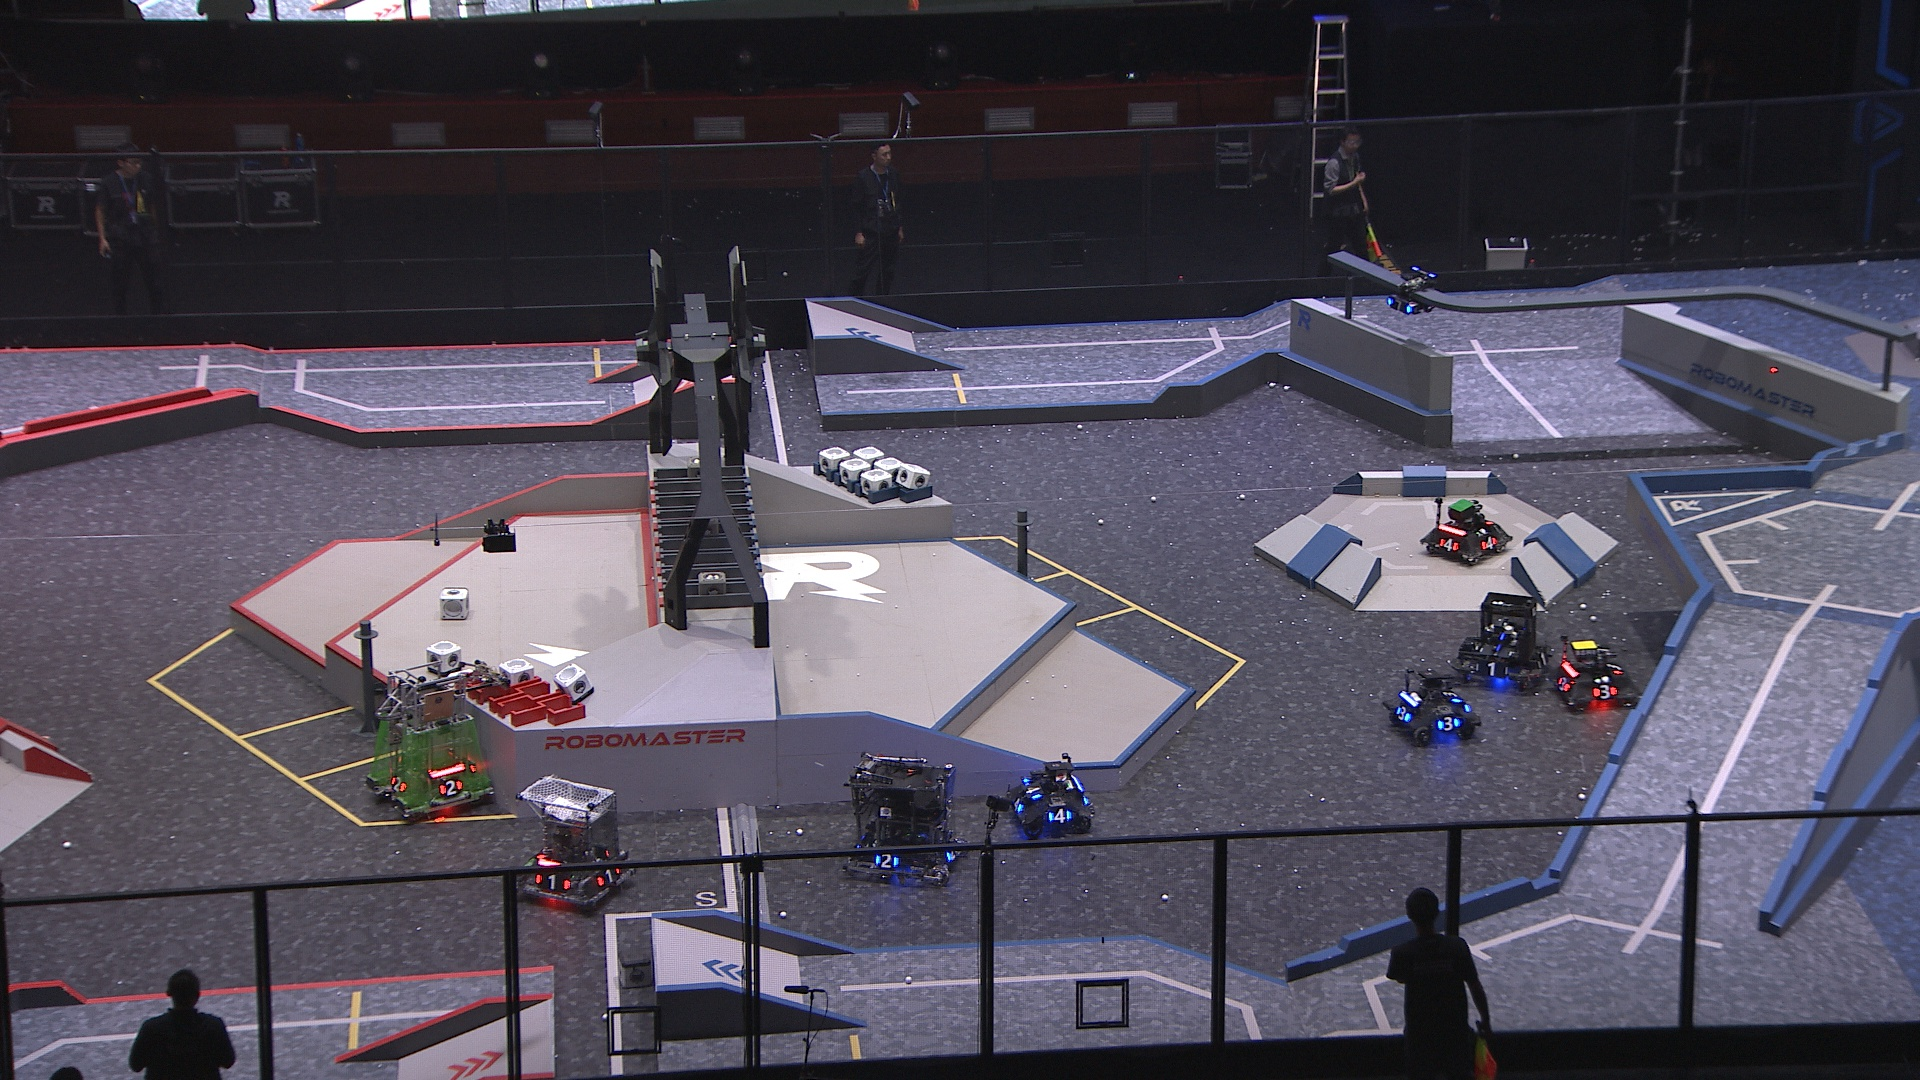armor: (531, 872, 571, 894), (1474, 662, 1513, 679), (1480, 644, 1518, 659), (1386, 295, 1415, 315), (873, 851, 902, 870), (595, 868, 621, 887), (1592, 683, 1619, 702), (1046, 807, 1073, 825), (1436, 713, 1462, 732), (439, 779, 463, 798), (1437, 535, 1461, 553), (390, 775, 409, 796), (1395, 705, 1414, 727), (1555, 675, 1575, 694), (1443, 688, 1462, 707), (1604, 661, 1625, 676), (1480, 534, 1498, 551), (1025, 783, 1043, 800), (1010, 796, 1026, 816), (1536, 651, 1552, 670), (942, 849, 960, 861)
car: (367, 662, 495, 820), (840, 750, 964, 887), (513, 775, 637, 913), (1451, 591, 1552, 692), (1385, 666, 1484, 746), (1006, 754, 1093, 837), (1553, 637, 1643, 713), (1422, 495, 1514, 566)
watcher: (1386, 262, 1439, 319)
